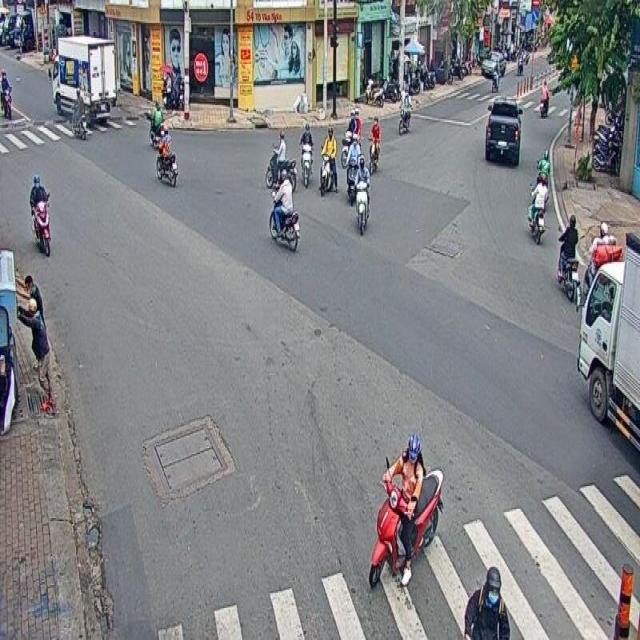car: (485, 96, 518, 171)
motorcycle: (368, 428, 442, 594), (268, 168, 301, 253), (555, 207, 582, 300), (28, 172, 53, 258), (264, 130, 298, 190), (154, 117, 178, 183), (354, 155, 372, 238), (318, 124, 338, 196), (528, 175, 547, 242), (341, 107, 362, 166), (346, 132, 362, 205), (298, 120, 313, 188), (368, 112, 382, 170)
truck: (51, 30, 116, 125)
